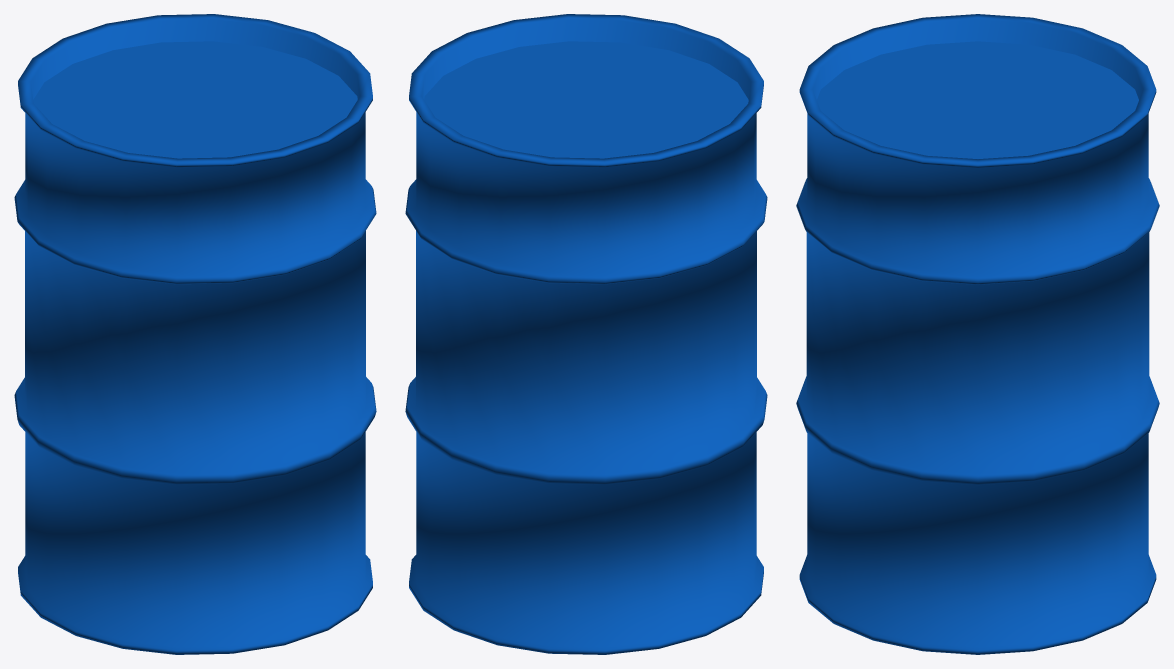
The model's file is barril_TEXTURIZADO.fbx.
3 renders of one model, left to right at view 1: azimuth 30°, elevation 25°; view 2: azimuth 150°, elevation 25°; view 3: azimuth 270°, elevation 25°, orthographic.
Parts seen in each view (by area): view 1: barril_smooth; view 2: barril_smooth; view 3: barril_smooth.
Boxes of the visible parts, box(x1,y1,x2,y2) form: barril_smooth: box(14, 14, 376, 654); barril_smooth: box(405, 14, 767, 654); barril_smooth: box(796, 14, 1159, 654).
Size of the model in its own units: 76.29 by 113 by 76.29.
